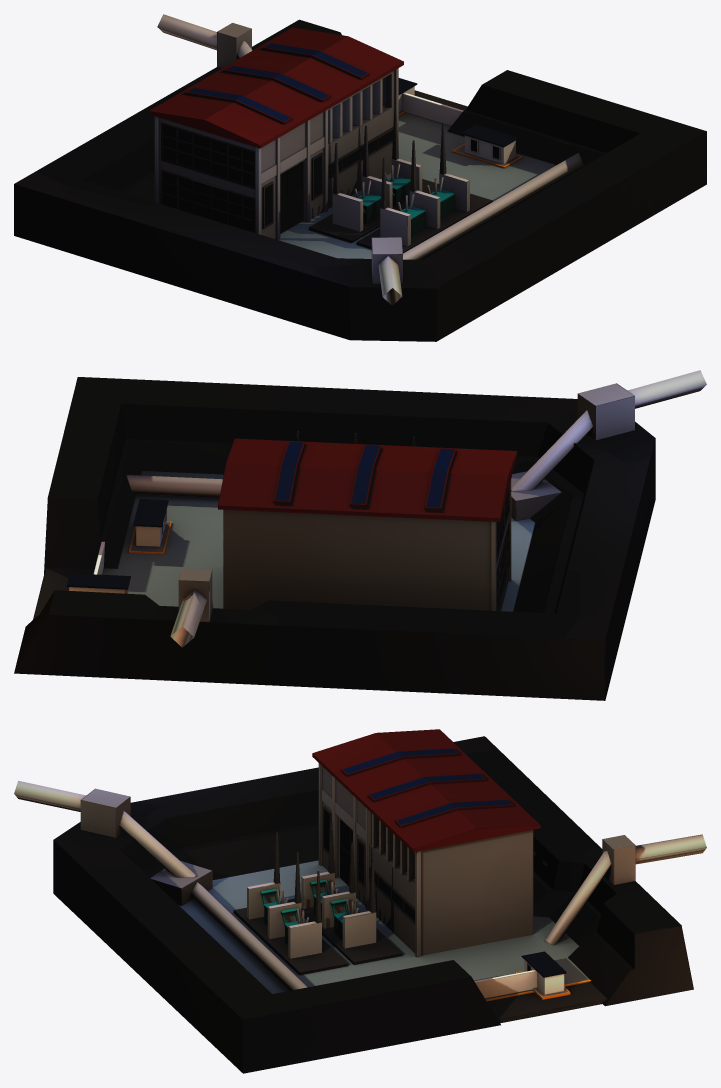
Rendered from Mini_3D_04.glb.
The picture shows the model from 3 angles, top to bottom: view 1: azimuth 30°, elevation 25°; view 2: azimuth 150°, elevation 25°; view 3: azimuth 270°, elevation 25°; orthographic projection. The views are drawn at different scales.
Visible parts, largest first — view 1: Mini.005; view 2: Mini.005; view 3: Mini.005.
Part boxes in pixels (left/top/right/bottom): Mini.005: left=14, top=14, right=706, bottom=341; Mini.005: left=14, top=370, right=706, bottom=700; Mini.005: left=14, top=729, right=706, bottom=1073.
Size of the model in its own units: 5.41 by 1.22 by 5.59.
Materials: 1 (1 with a texture image).
